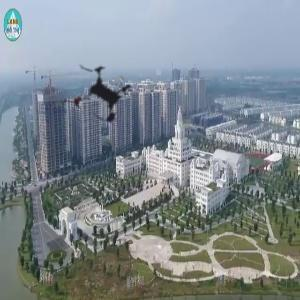drone: (35, 23, 173, 161)
